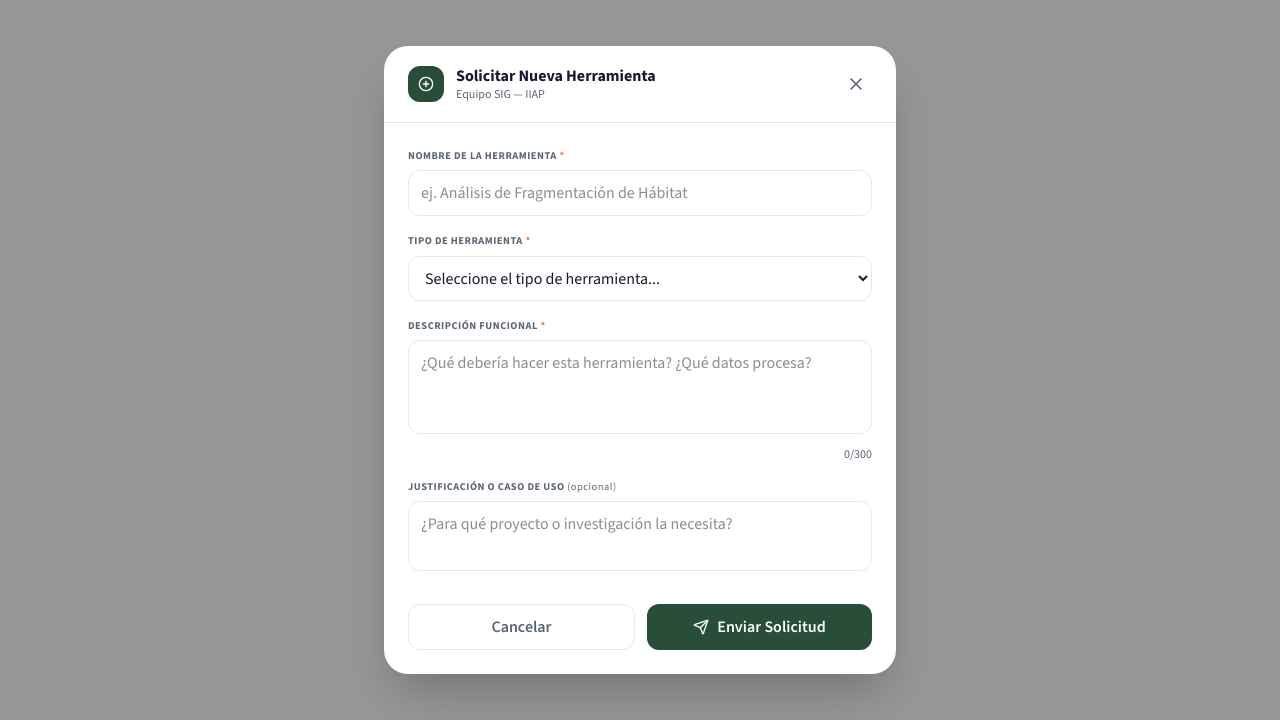
SolicitarHerramientaModal — validación › la descripción exige un mínimo de 20 caracteres
Type "Detector" into the field labelled "Nombre de la herramienta *" at point(640, 194), box [408,170,872,216]
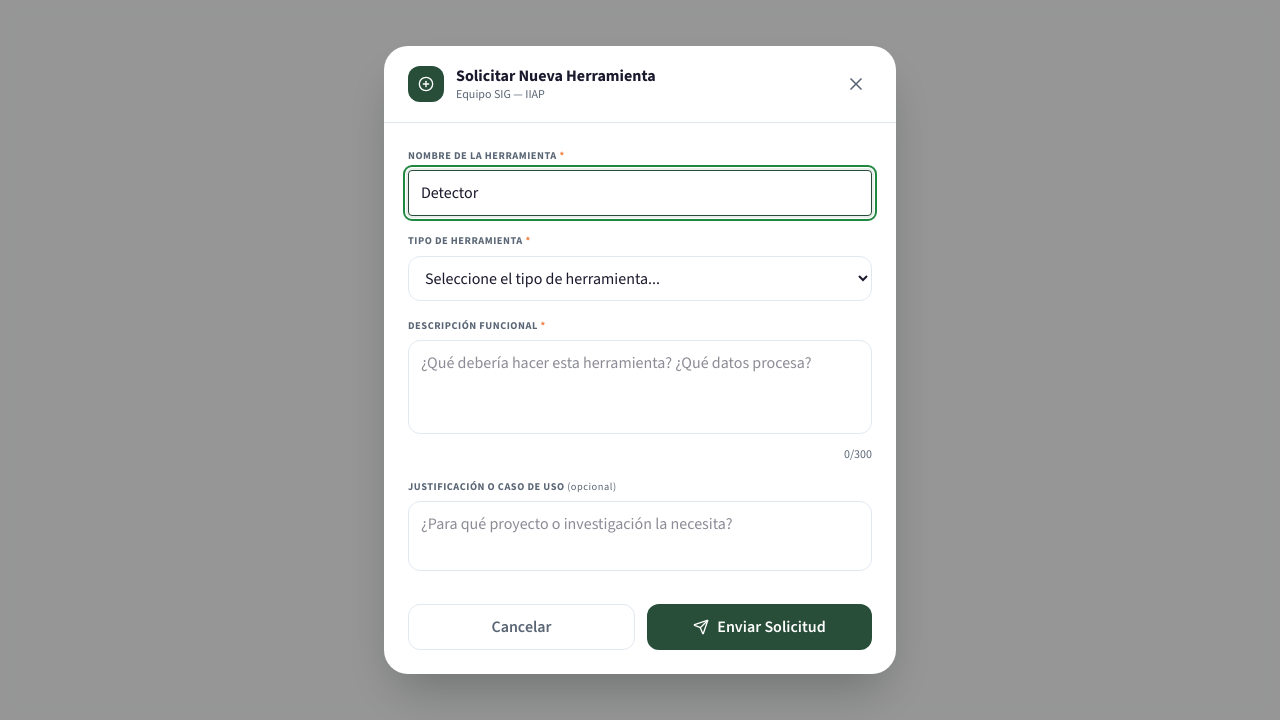
Select "Otro" in the dropdown labelled "Tipo de herramienta *" at point(640, 278), box [408,256,872,301]
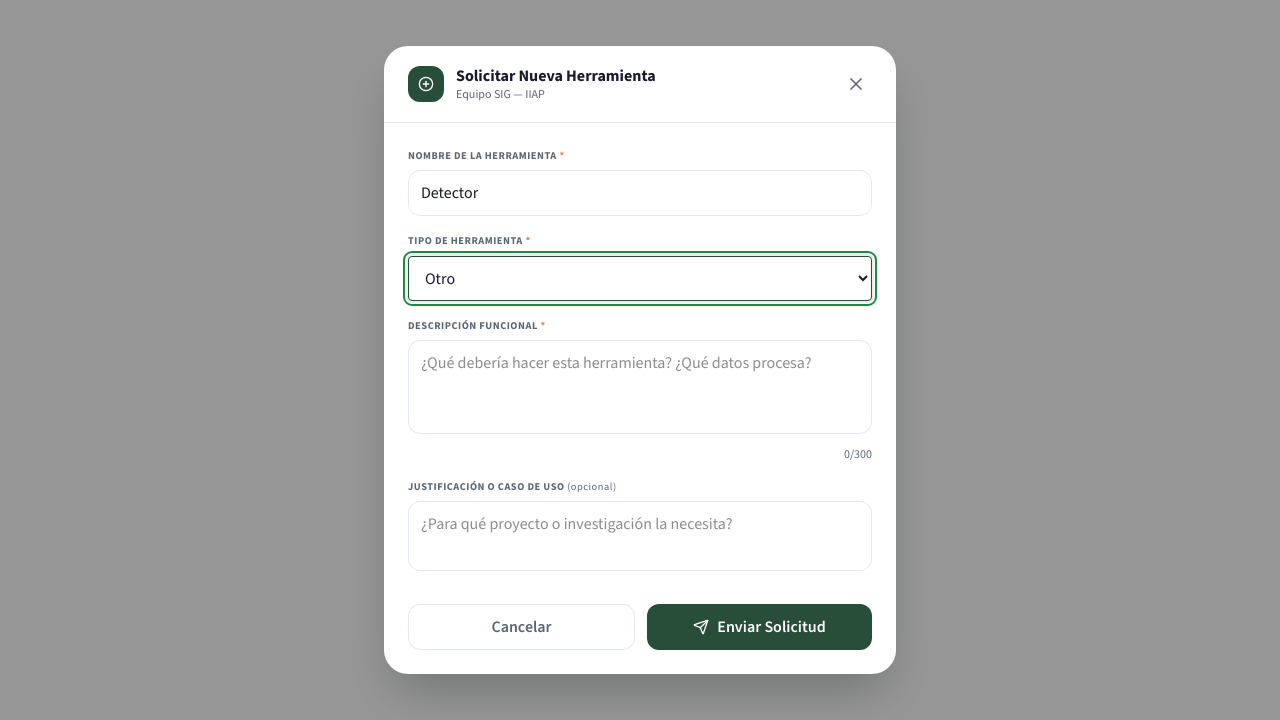
Type "muy corta" into the text box labelled "Descripción funcional *" at point(640, 387), box [408,340,872,434]
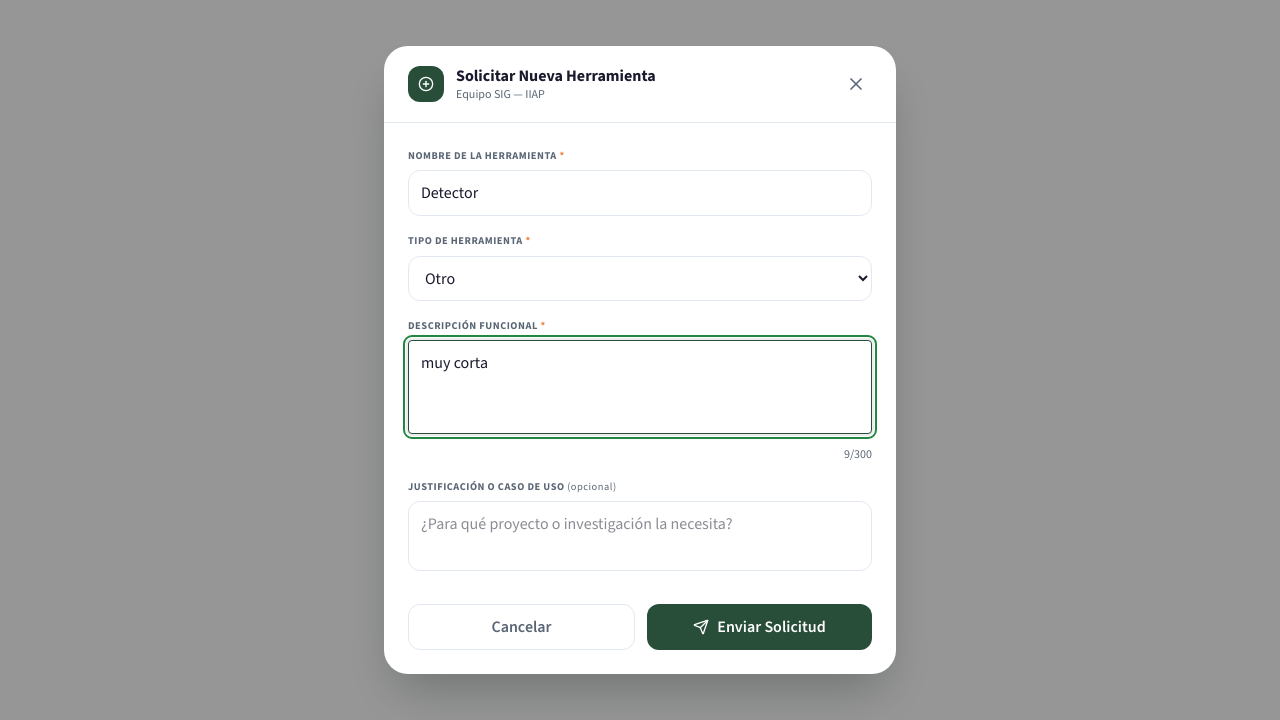
Click the button "Enviar Solicitud" at point(760, 627), box [647,604,872,650]
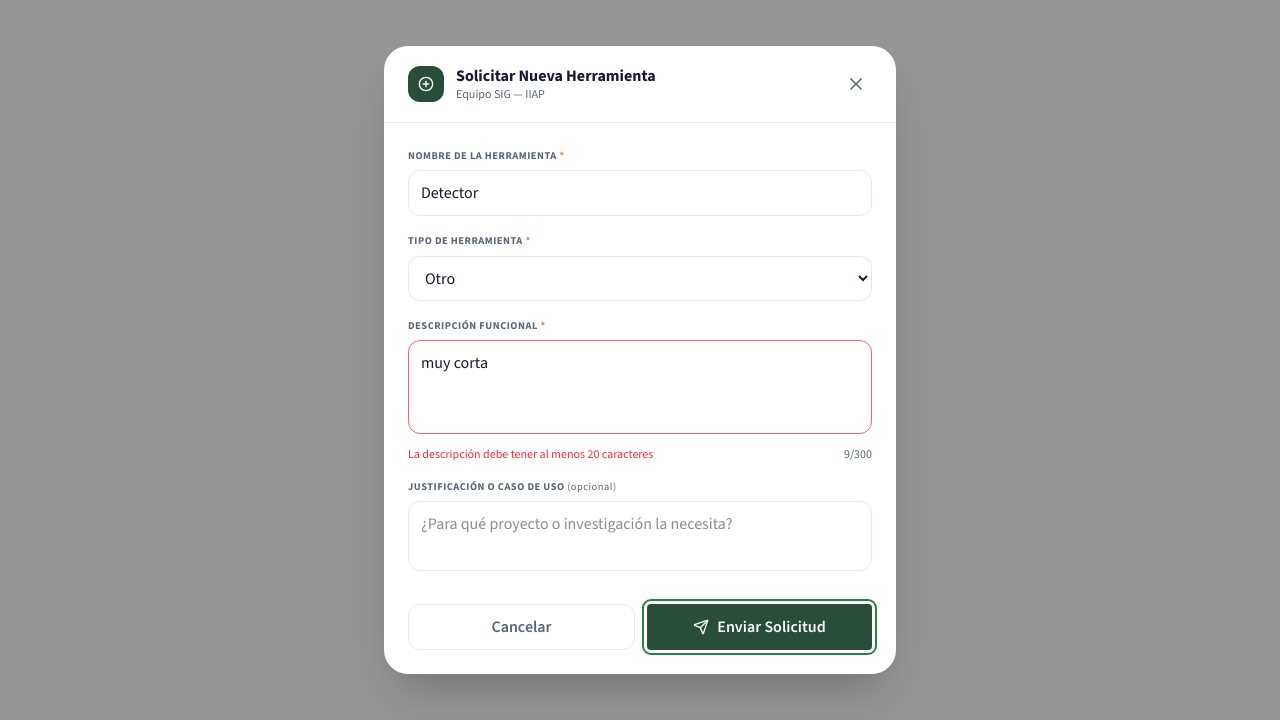
Now the text "La descripción debe tener al menos 20 caracteres" is shown, box [408,446,653,462]
